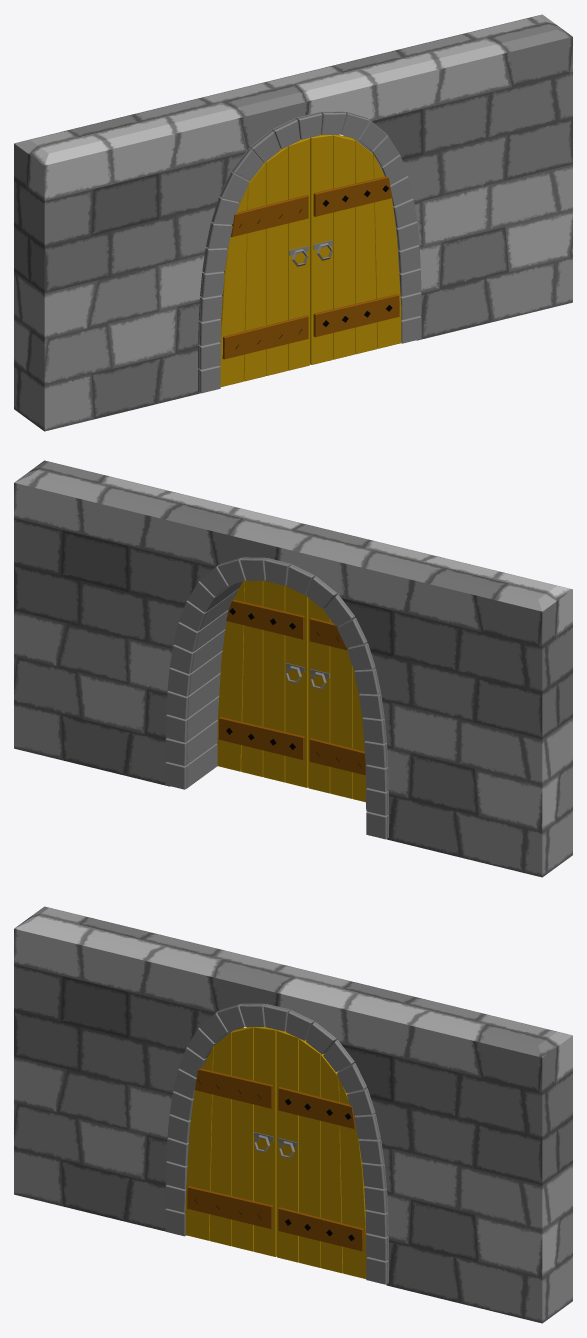
The model's file is door.glb.
3 renders of one model, top to bottom at view 1: azimuth 30°, elevation 25°; view 2: azimuth 150°, elevation 25°; view 3: azimuth 330°, elevation 25°, orthographic.
Parts seen in each view (by area): view 1: Wall, Left.001, Right.001, Door; view 2: Wall, Door, Left.001, Right.001; view 3: Wall, Right.001, Left.001, Door.
Part boxes in pixels (x1=…): Wall: x1=14, y1=14, x2=572, y2=431; Left.001: x1=310, y1=134, x2=402, y2=364; Right.001: x1=219, y1=138, x2=310, y2=386; Door: x1=198, y1=111, x2=421, y2=393; Wall: x1=14, y1=460, x2=572, y2=877; Door: x1=165, y1=557, x2=388, y2=839; Left.001: x1=217, y1=580, x2=308, y2=787; Right.001: x1=308, y1=598, x2=366, y2=802; Wall: x1=14, y1=906, x2=572, y2=1323; Right.001: x1=185, y1=1026, x2=276, y2=1256; Left.001: x1=276, y1=1030, x2=367, y2=1278; Door: x1=165, y1=1003, x2=388, y2=1284.
Size of the model in its own units: 2 by 0.9804 by 0.2559.
Materials: 6 (1 with a texture image).
